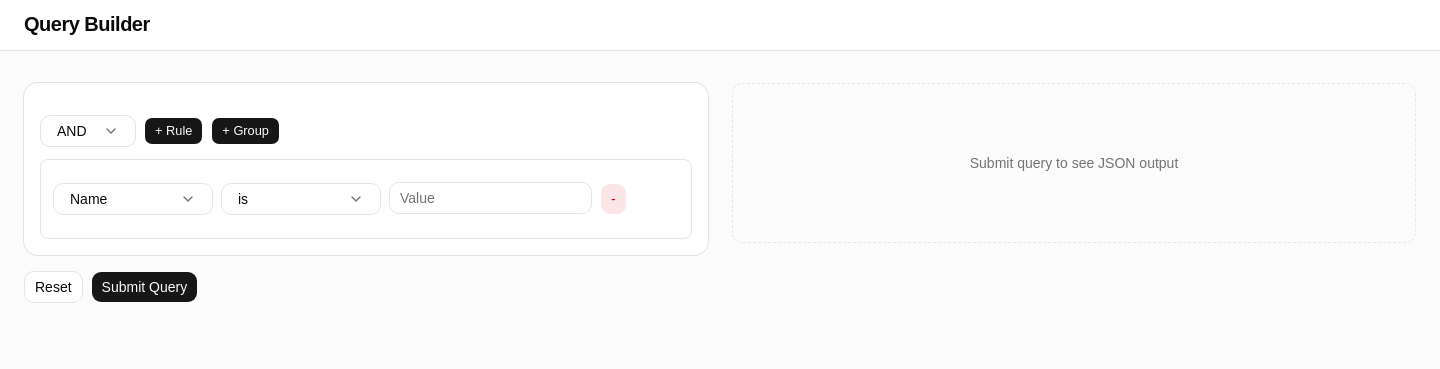
resets state when Reset clicked
Type "test" into the field with placeholder "Value" at point(490, 198), box [389, 182, 592, 214]
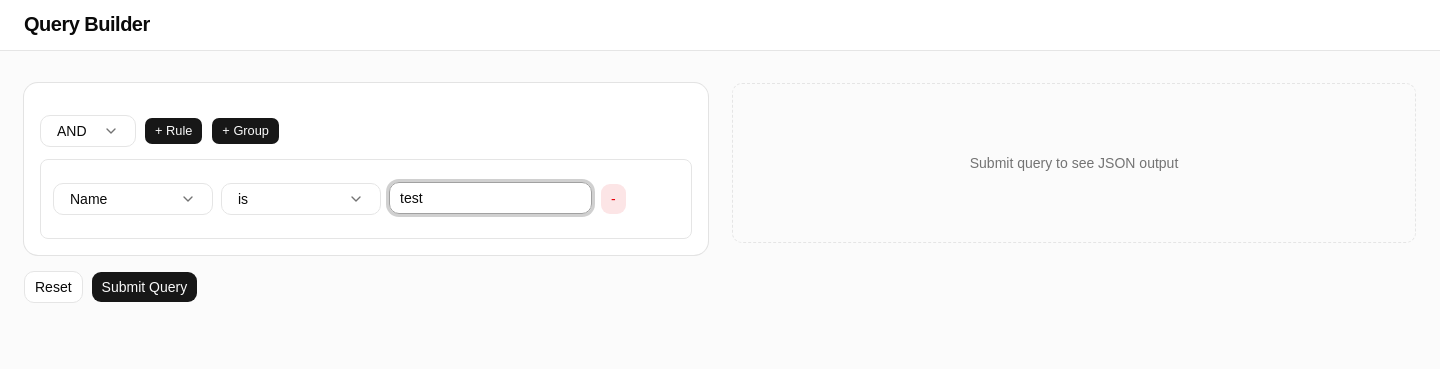
Click the button "Submit Query" at point(144, 287), box [91, 271, 198, 303]
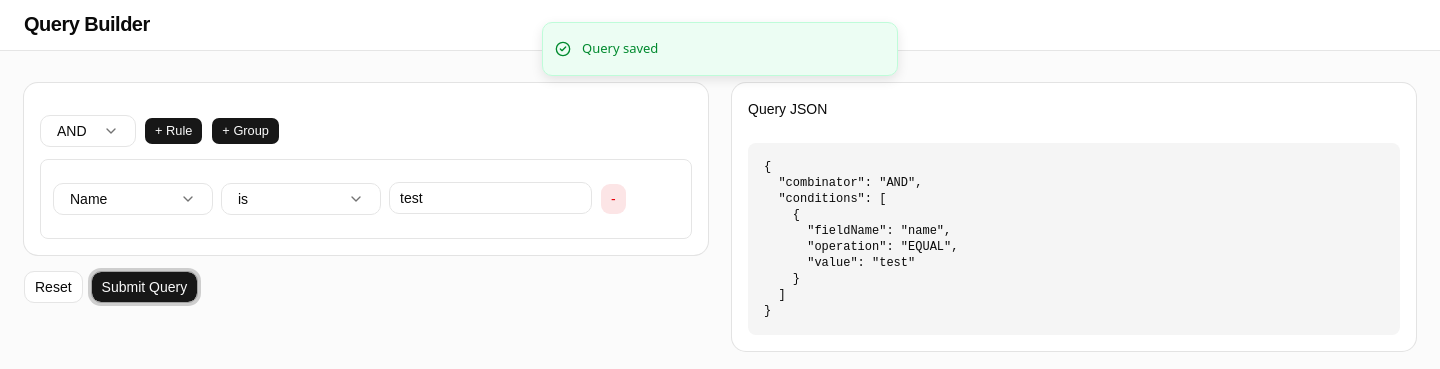
Result: the text "Query JSON" is shown at [748, 101, 827, 117]
Click the button "Reset" at point(53, 287), box [24, 271, 83, 303]
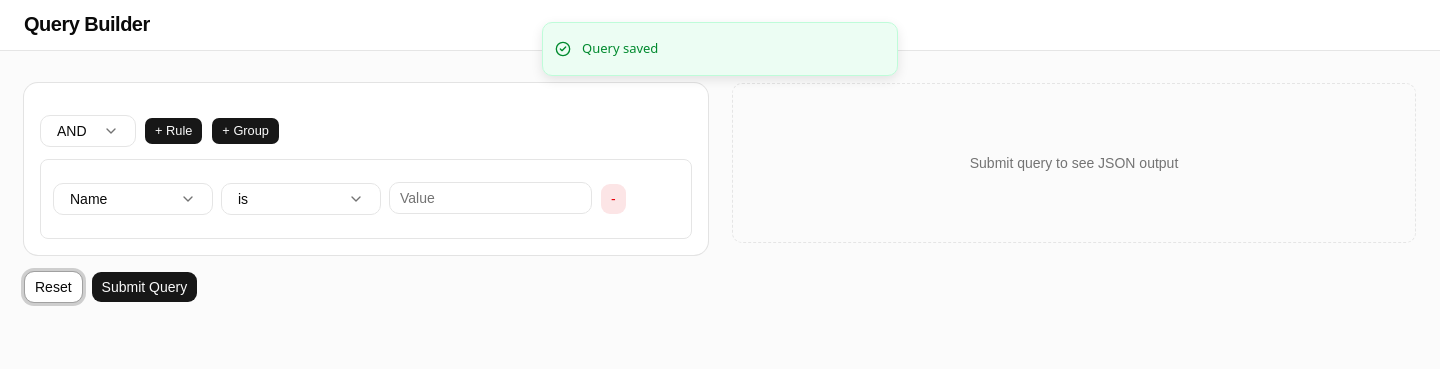
Result: the text "Query JSON" is gone
